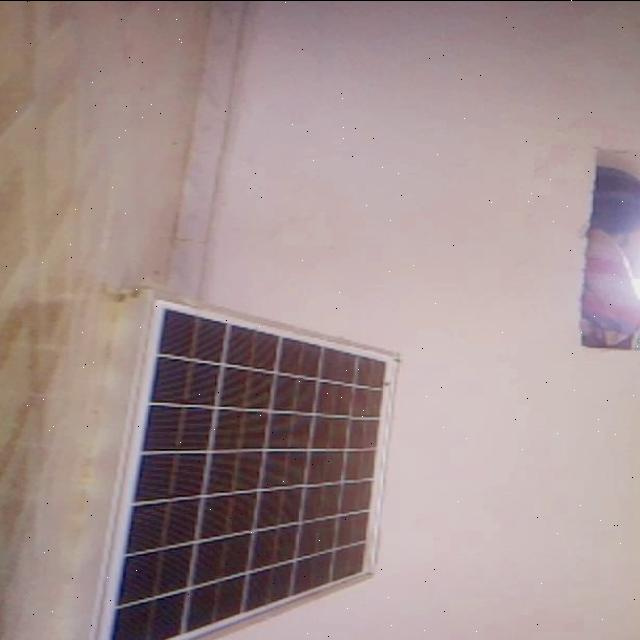Normal Solar Panel: (109, 308, 386, 640)
